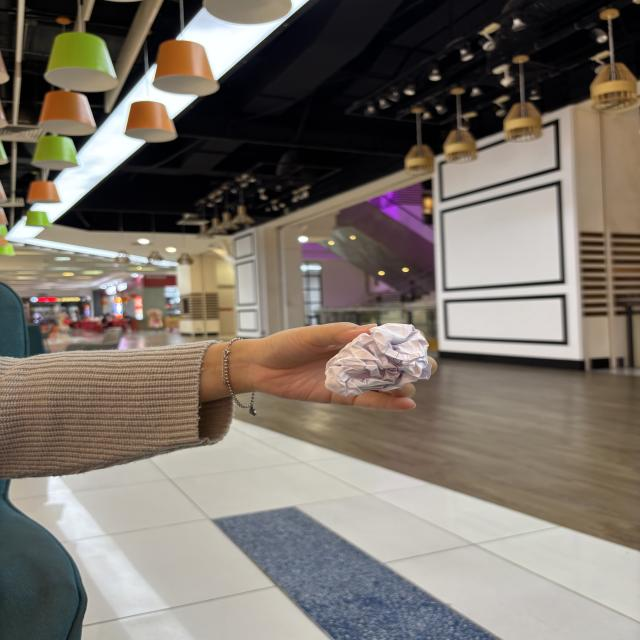crumpled_paper: (321, 319, 439, 403)
